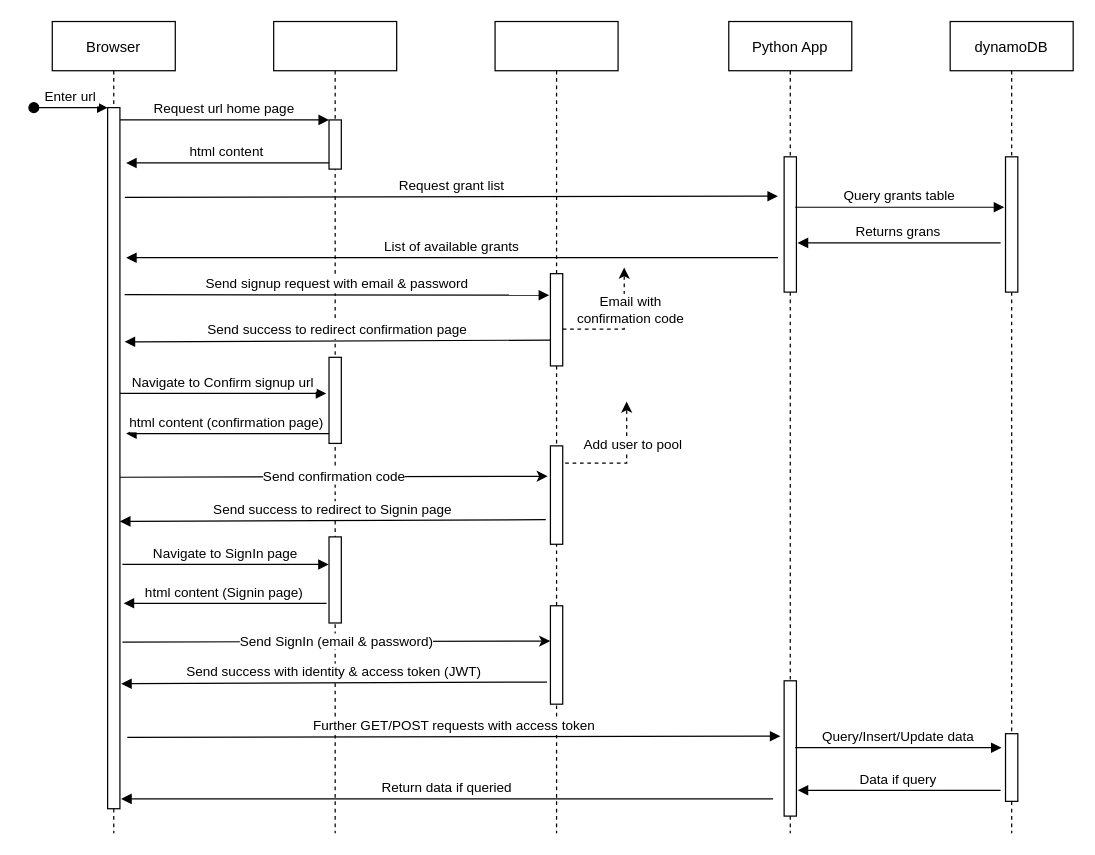
Image size: 1095x855. Some labels were removed from this diagram. The centre of each missing label's shape, as x and y in pixels:
Angular App: (x=334, y=426)
AWS Cognito: (x=556, y=426)
